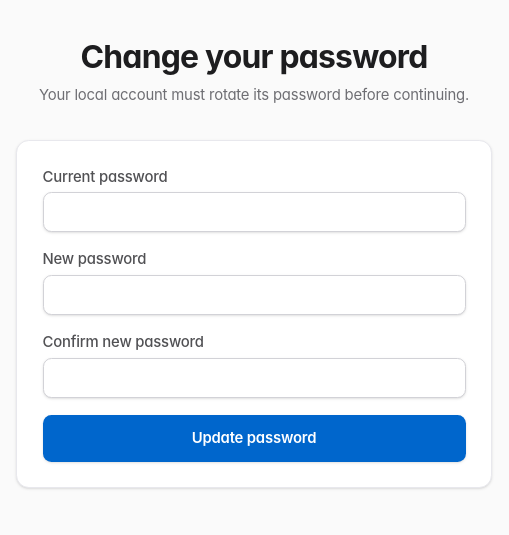
it: change-password page › blocks submission when the new password is shorter than 12 characters
The width and height of the screenshot is (509, 535).
Type "current-pass" into the password field labelled "Current password" at (254,212), box x1=42 y1=192 x2=466 y2=232
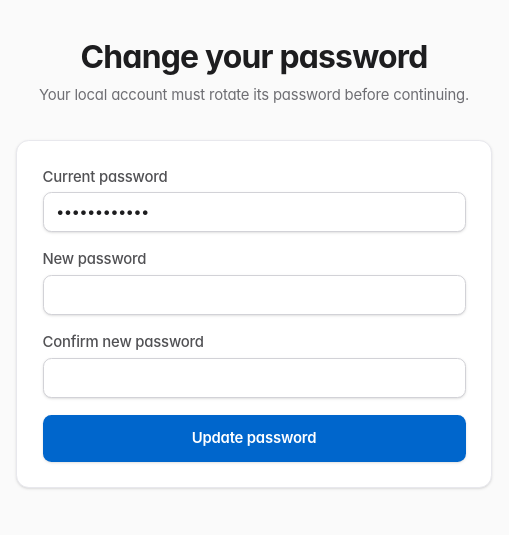
Type "short-pwd" into the password field labelled "New password" at (254,295), box x1=42 y1=275 x2=466 y2=315
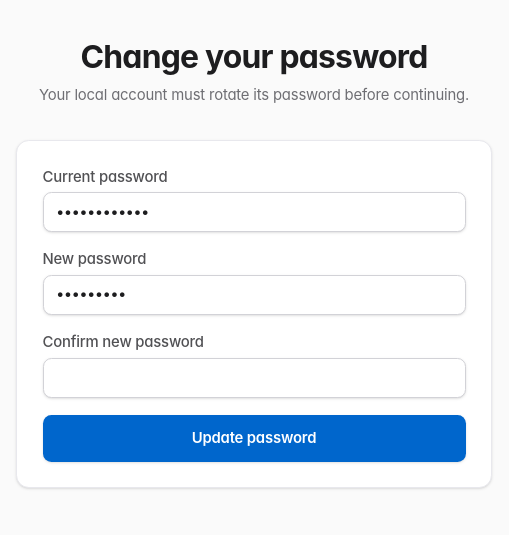
Type "short-pwd" into the password field labelled "Confirm new password" at (254,378), box x1=42 y1=358 x2=466 y2=398
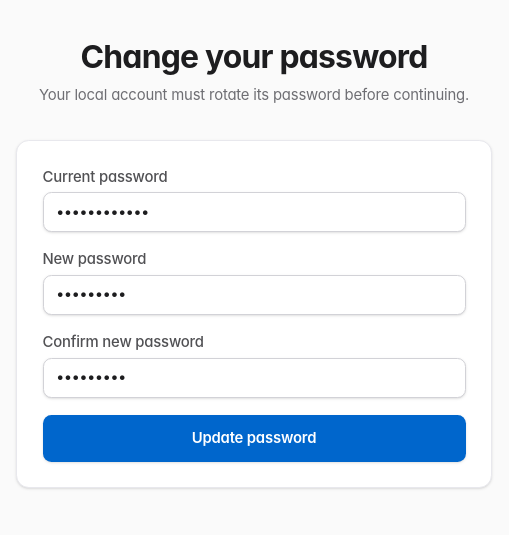
Click the button "Update password" at (254,438), box x1=42 y1=415 x2=466 y2=462
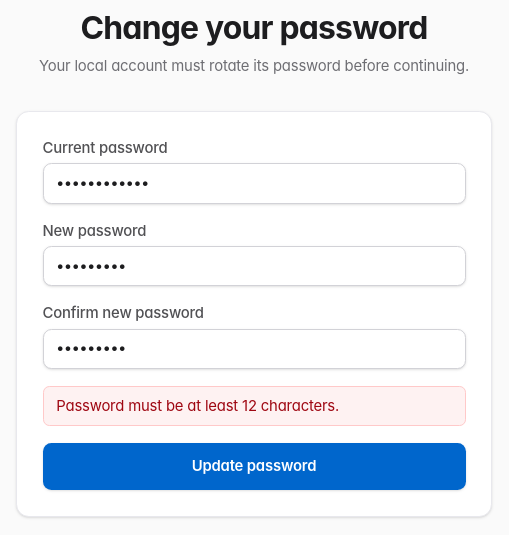
Check: the message shows "at least 12 characters", box x1=56 y1=397 x2=339 y2=415
